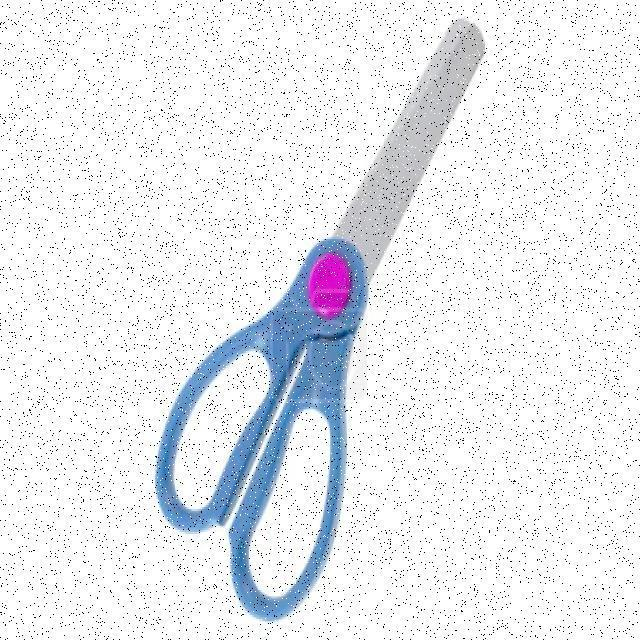scissors: (150, 14, 489, 625)
